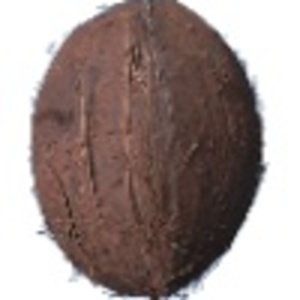coco: (31, 1, 265, 300)
